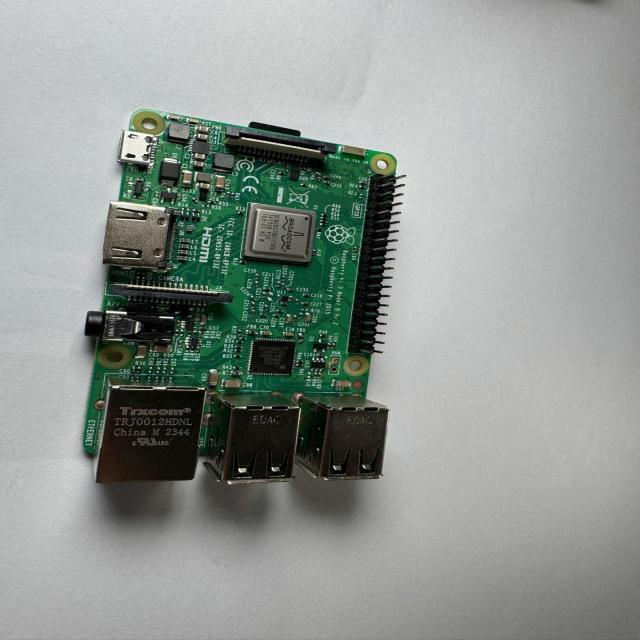CPU: (242, 202, 321, 266)
Ethernet: (90, 370, 212, 495)
GPIO: (346, 175, 408, 358)
HDMI: (104, 200, 178, 274)
RAM-3: (248, 337, 297, 376)
Raspberry: (76, 108, 413, 488)
